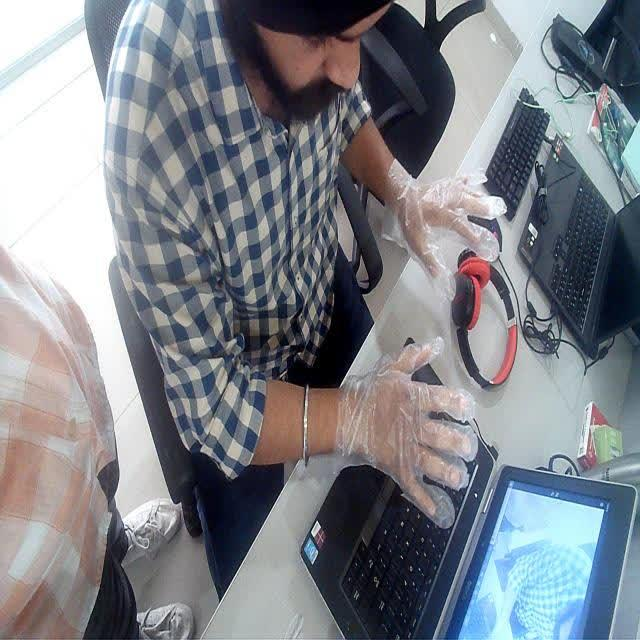with_gloves: (339, 338, 502, 528), (395, 168, 540, 268)
